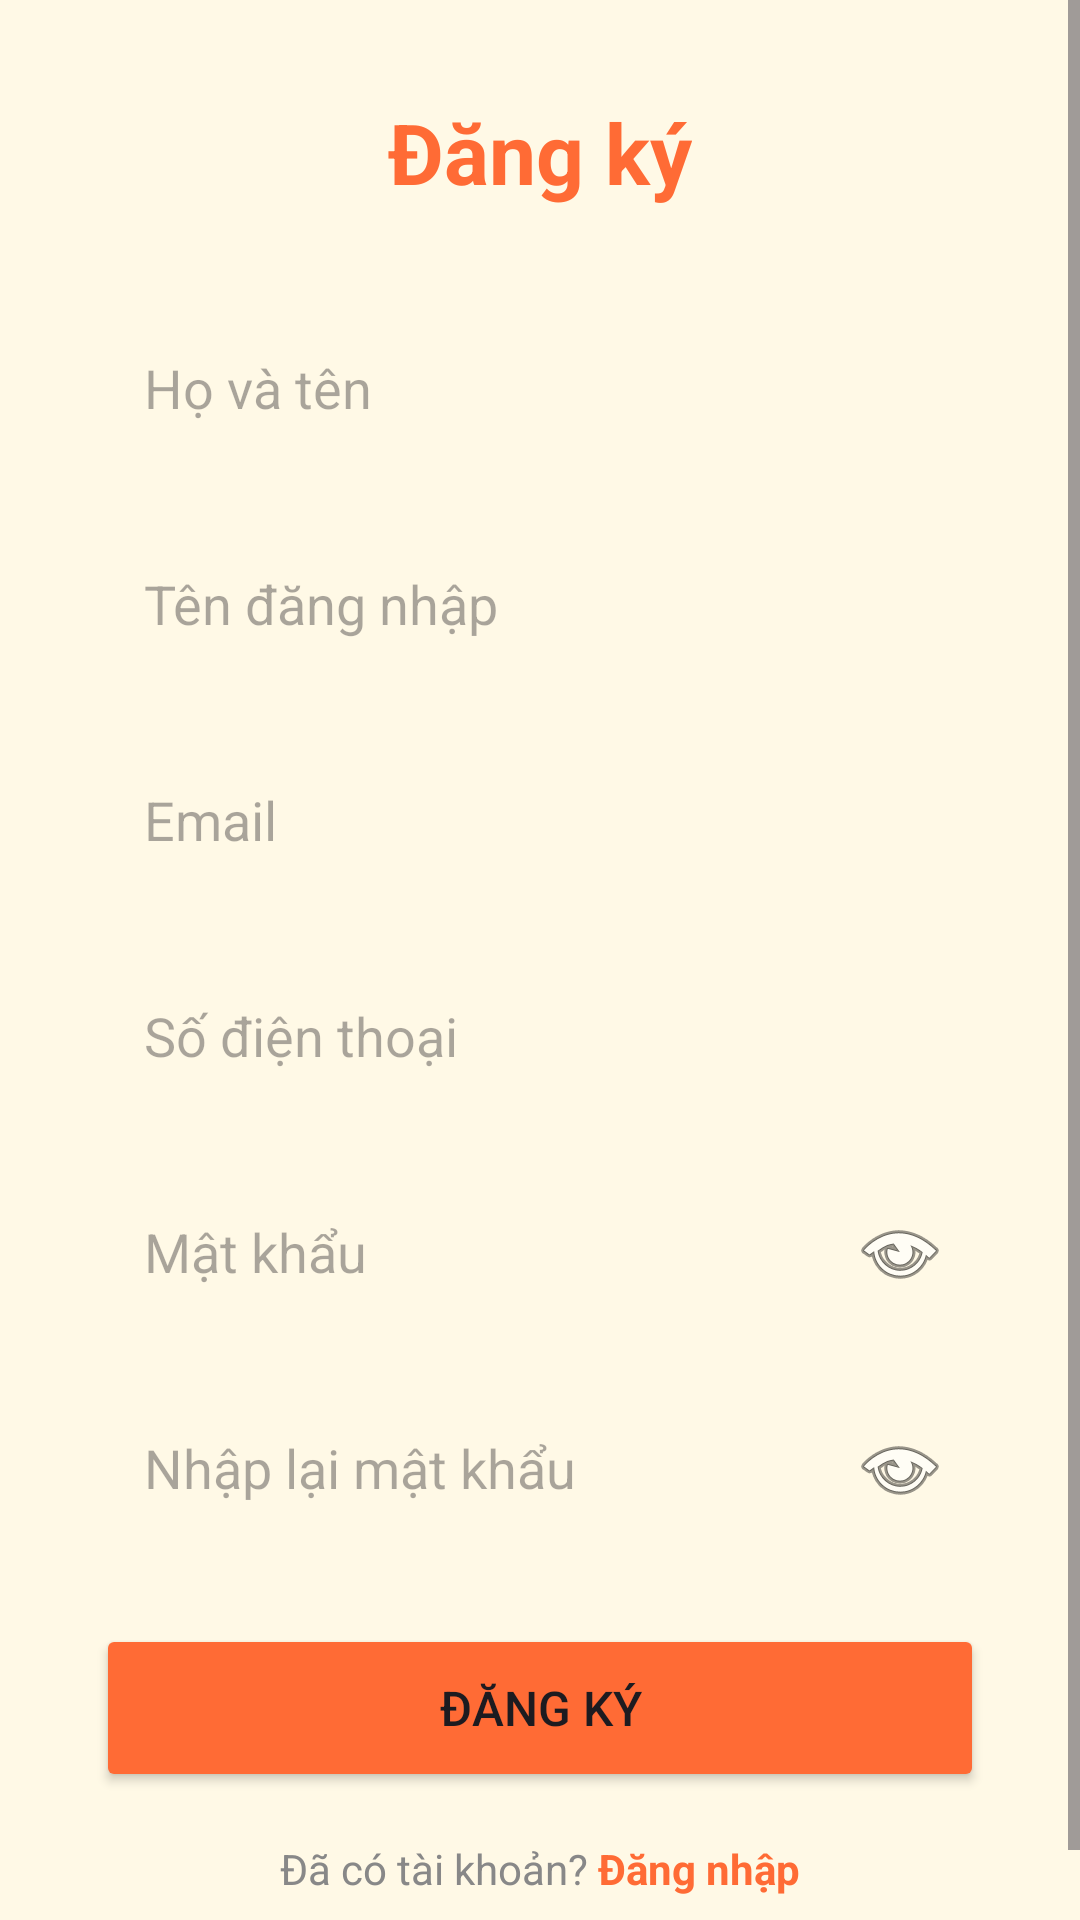

Where icons sit on this 1080x1920 app screen, as (x1, y1, x2, y2):
Show/Hide Password: (861, 1230, 939, 1279), (861, 1446, 939, 1495)
